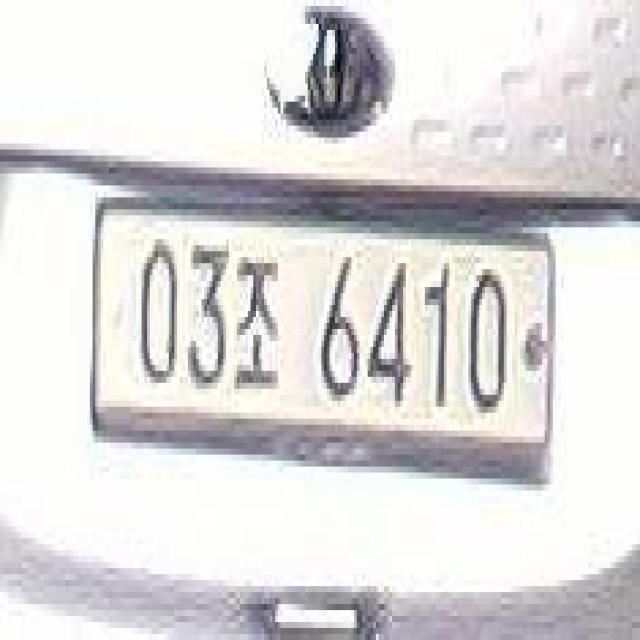illegal_plate: (89, 184, 559, 507)
